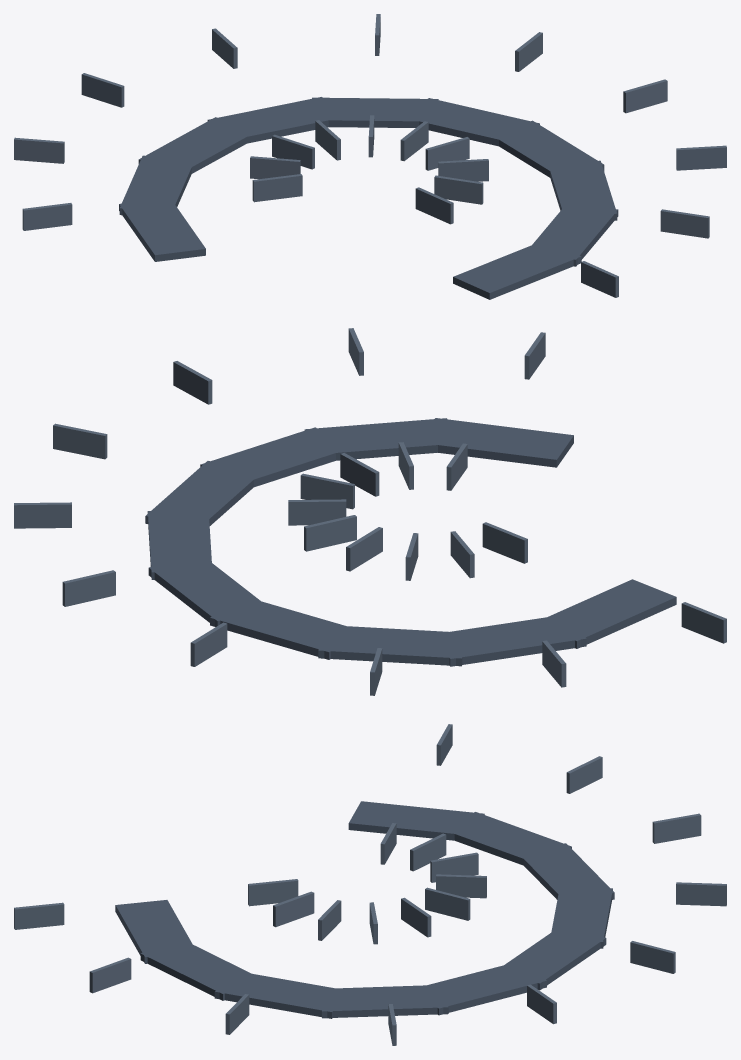
Rendered from track_curveleft_90.glb.
3 views of the same model, one above another, from view 1: azimuth 30°, elevation 25°; view 2: azimuth 150°, elevation 25°; view 3: azimuth 270°, elevation 25° (orthographic). The views are drawn at different scales.
Parts seen in each view (by area): view 1: Track_CurveLeft_90; view 2: Track_CurveLeft_90; view 3: Track_CurveLeft_90.
Boxes of the visible parts, x1,y1,x2,y2 form: Track_CurveLeft_90: [14, 14, 726, 299]; Track_CurveLeft_90: [14, 328, 726, 695]; Track_CurveLeft_90: [14, 724, 726, 1045].
Bounding box in the file's own units: 6.6 × 0.42 × 6.6.
